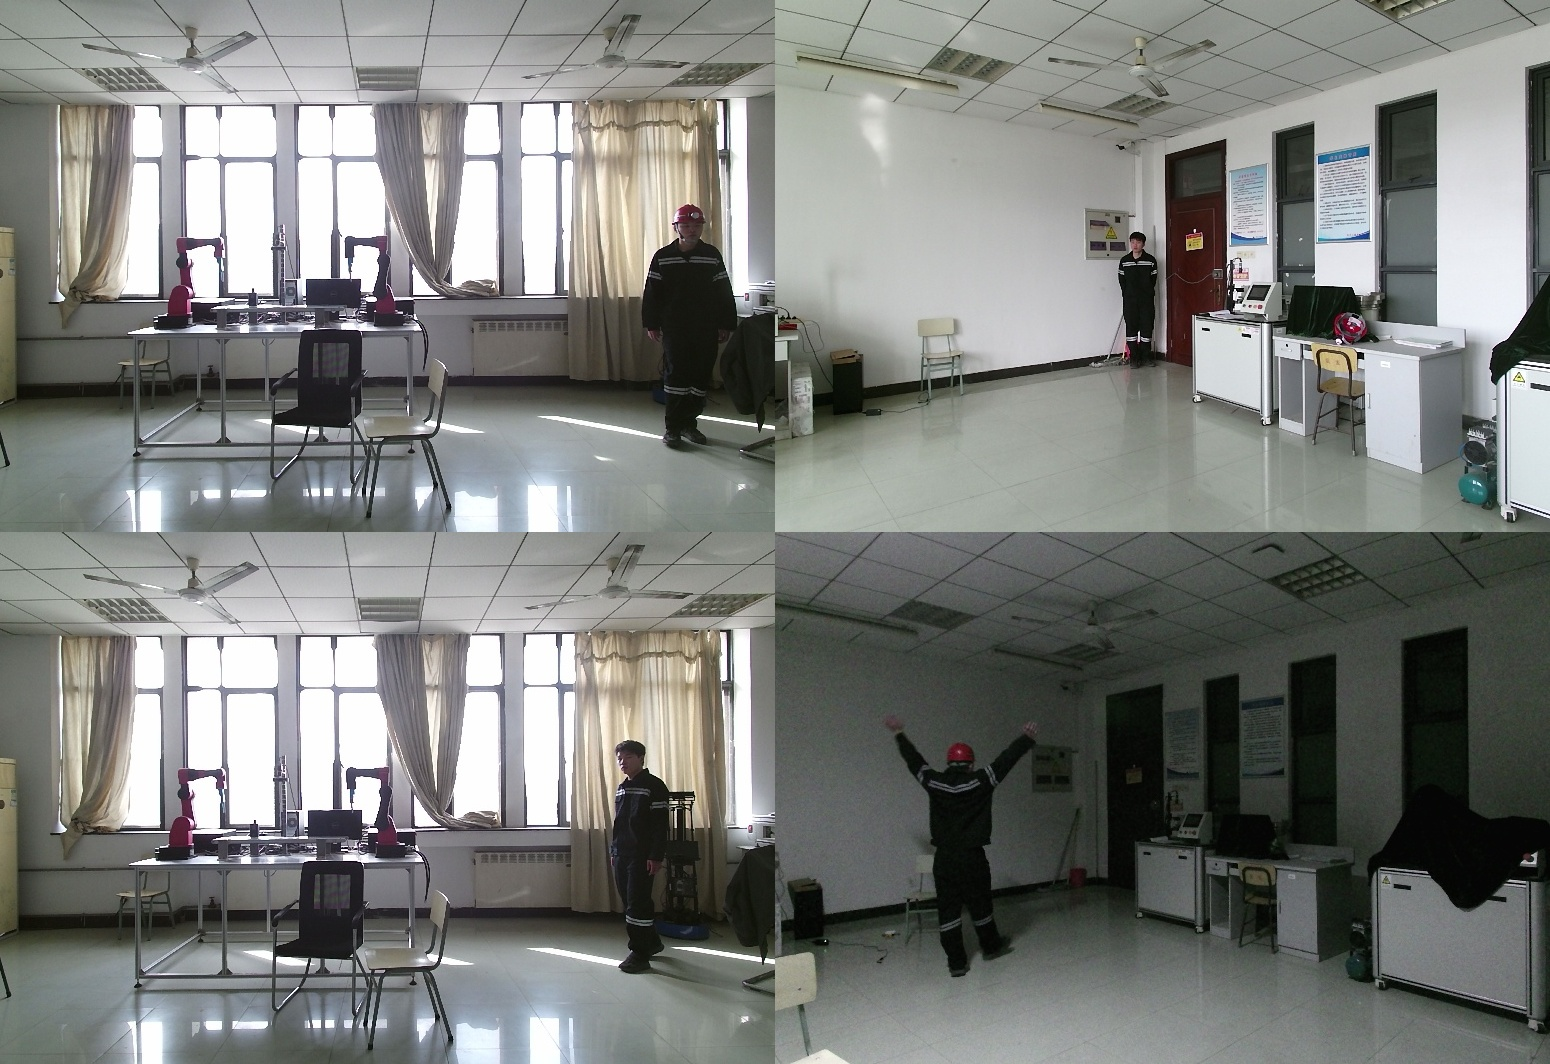person: (872, 720, 1046, 980), (643, 207, 738, 448), (616, 742, 683, 977), (1116, 232, 1161, 370)
